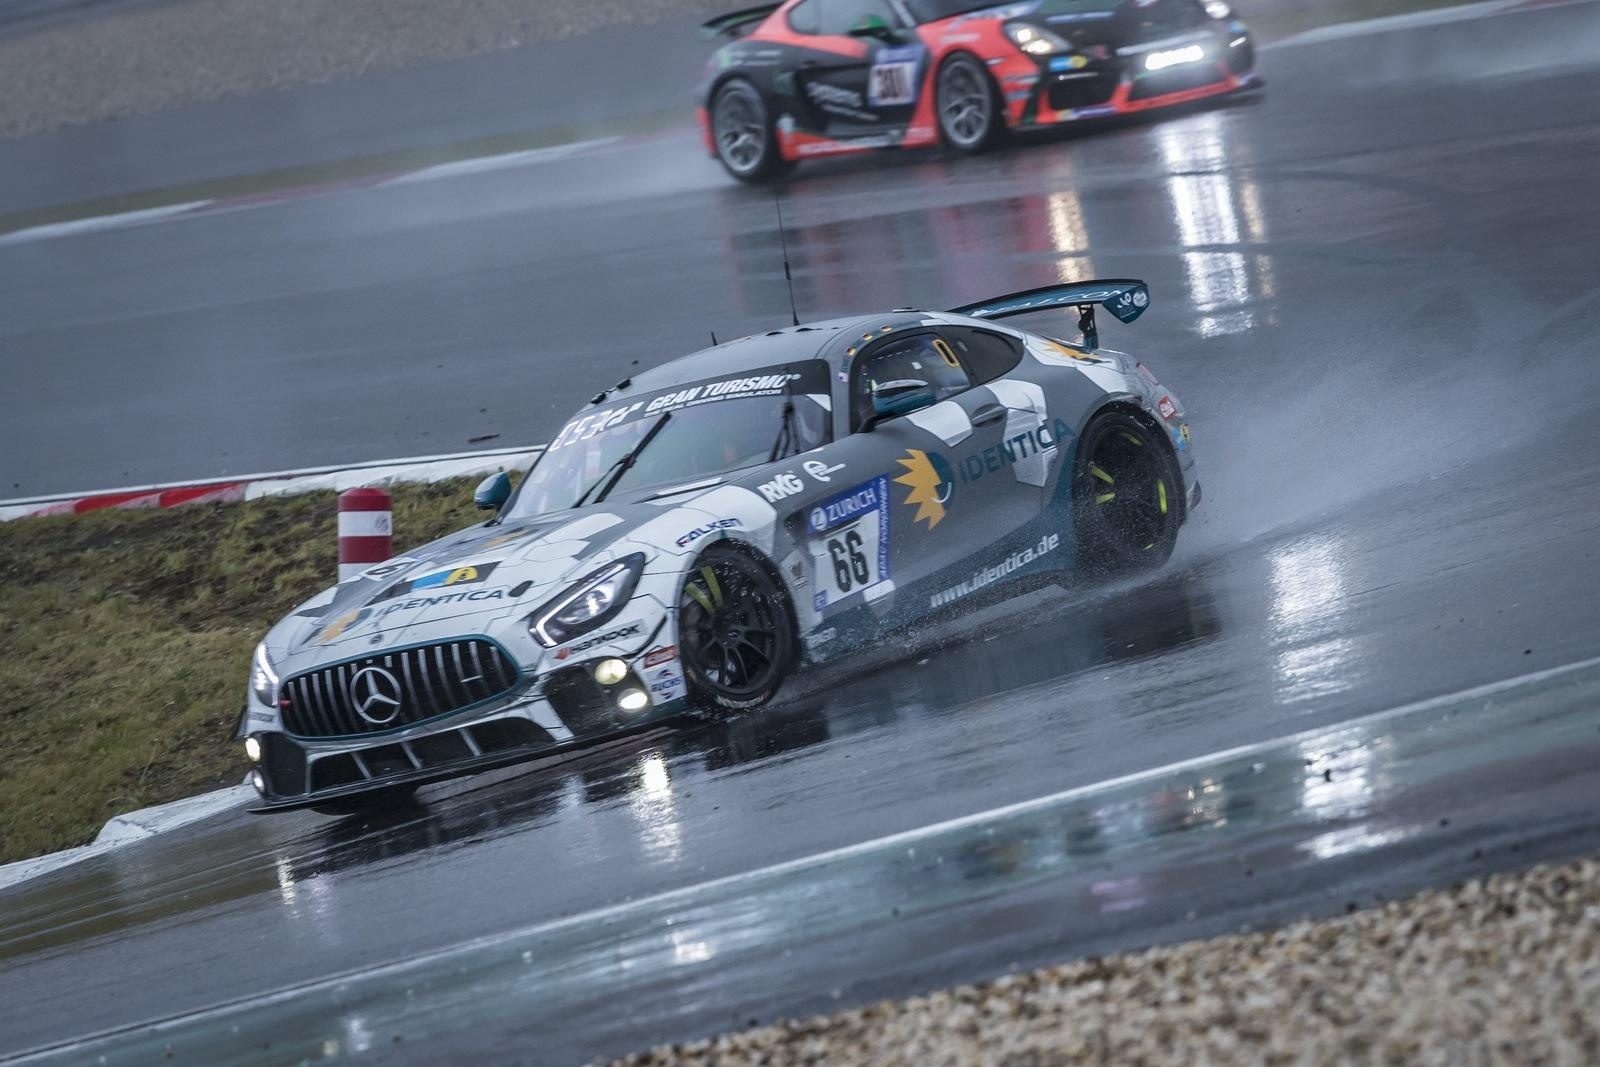racing car: (229, 280, 1207, 786)
